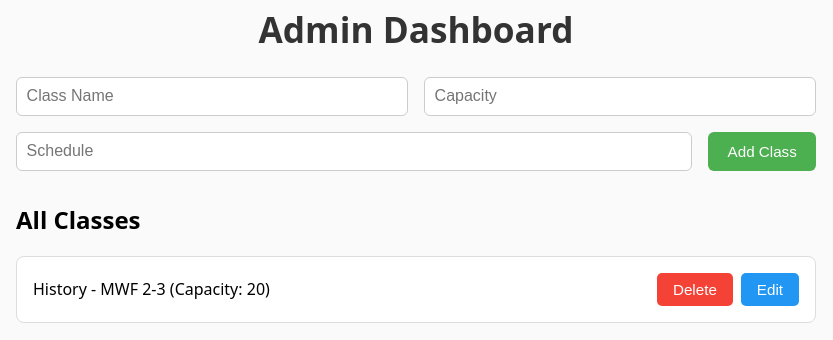
Test case: AdminDashboard › deletes a class
What coordinates should you click on to do the following:
click the button "Delete"
I would click on:
 (695, 289)
Its box is x1=657 y1=273 x2=733 y2=306.
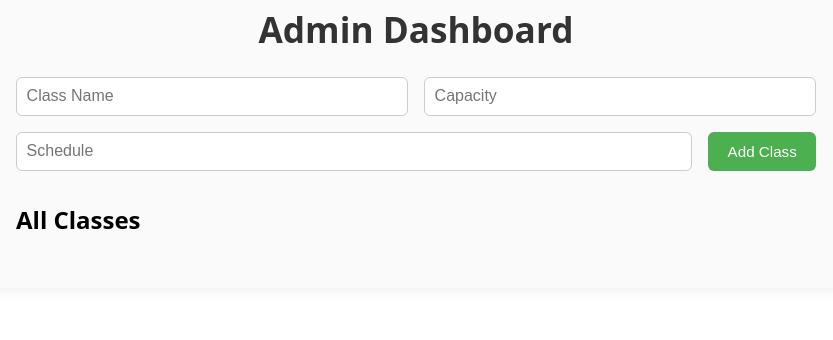
Now the list item "History" is gone
